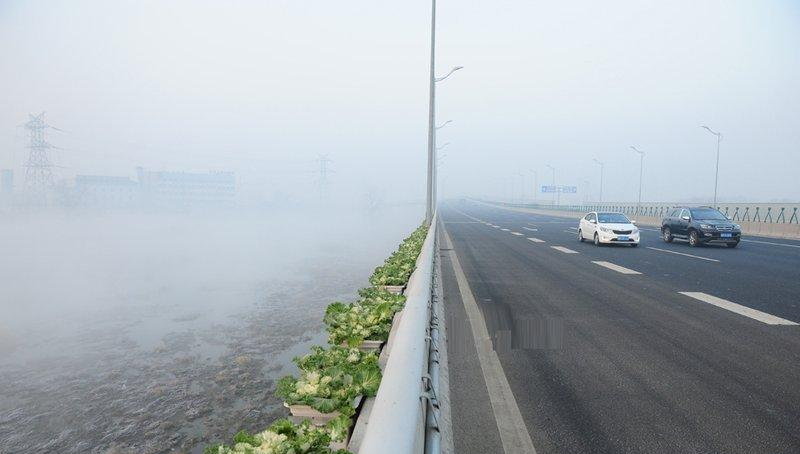car: (661, 204, 742, 246), (577, 210, 639, 245)
